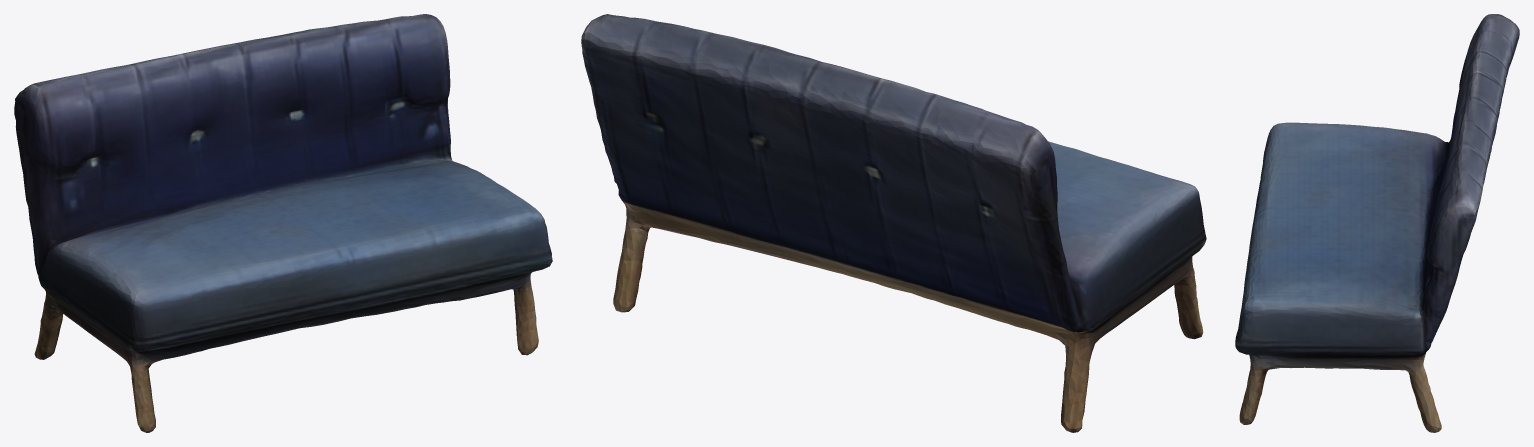
The model's file is SESSION_1713821750_4971628_preview-4.gltf.
3 renders of one model, left to right at view 1: azimuth 30°, elevation 25°; view 2: azimuth 150°, elevation 25°; view 3: azimuth 270°, elevation 25°, orthographic. The views are drawn at different scales.
Parts seen in each view (by area): view 1: output; view 2: output; view 3: output.
Boxes of the visible parts, <box> form: output: <box>14,14,552,432</box>; output: <box>581,14,1206,432</box>; output: <box>1235,14,1519,432</box>.
Size of the model in its own units: 1.63 by 1 by 1.03.
1 material, 1 textured.
